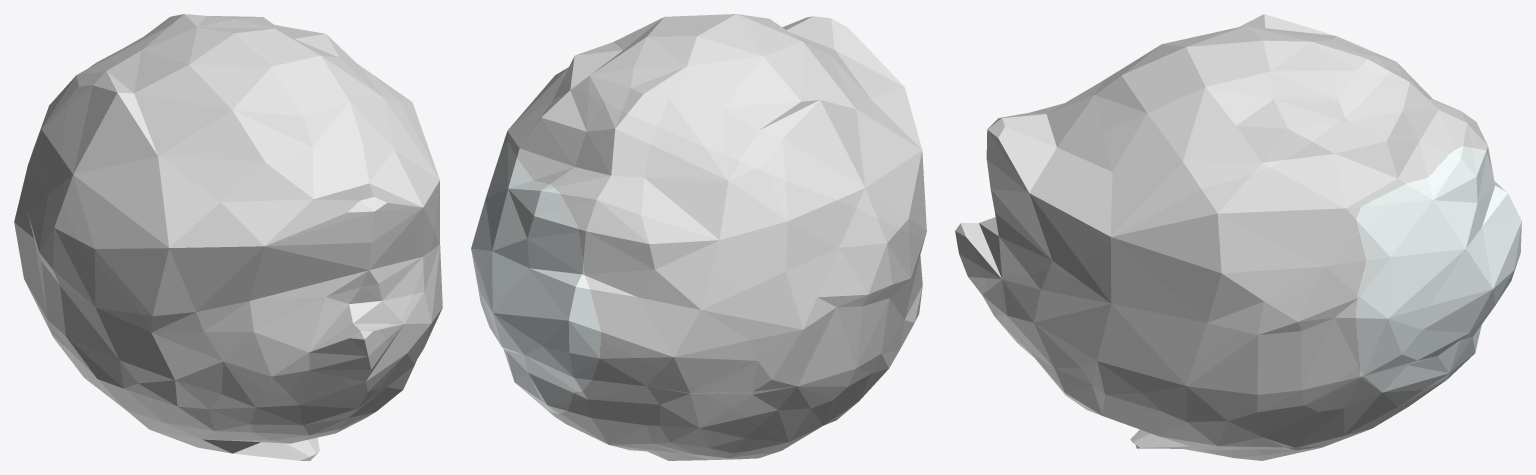
The model's file is CharSkyKid_Tail_MoonlightRabbit.glb.
The picture shows the model from 3 angles, left to right: view 1: azimuth 30°, elevation 25°; view 2: azimuth 150°, elevation 25°; view 3: azimuth 270°, elevation 25°; orthographic projection. The views are drawn at different scales.
Visible parts, largest first — view 1: CharSkyKid_Tail_MoonlightRabbit; view 2: CharSkyKid_Tail_MoonlightRabbit; view 3: CharSkyKid_Tail_MoonlightRabbit.
Part boxes in pixels (x1,y1,x2,y2): CharSkyKid_Tail_MoonlightRabbit: (14,14,442,460); CharSkyKid_Tail_MoonlightRabbit: (471,14,926,460); CharSkyKid_Tail_MoonlightRabbit: (955,14,1521,460).
Size of the model in its own units: 1.2 by 1.26 by 1.59.
1 material, 1 textured.
